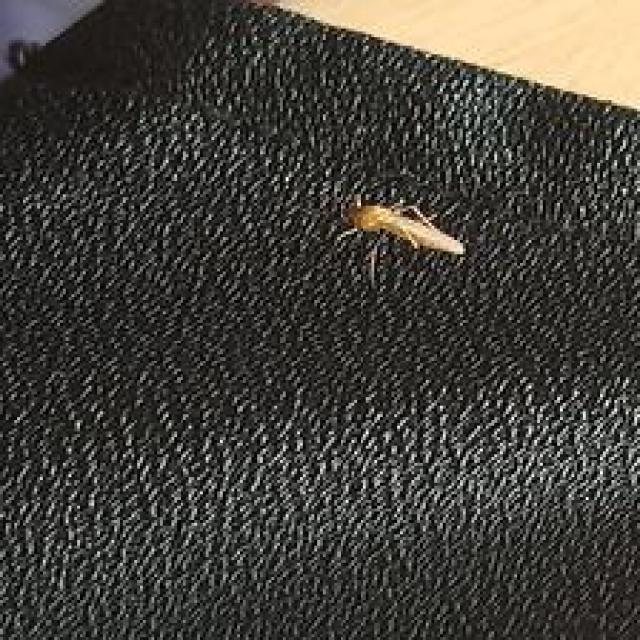Culex: (336, 194, 467, 289)
